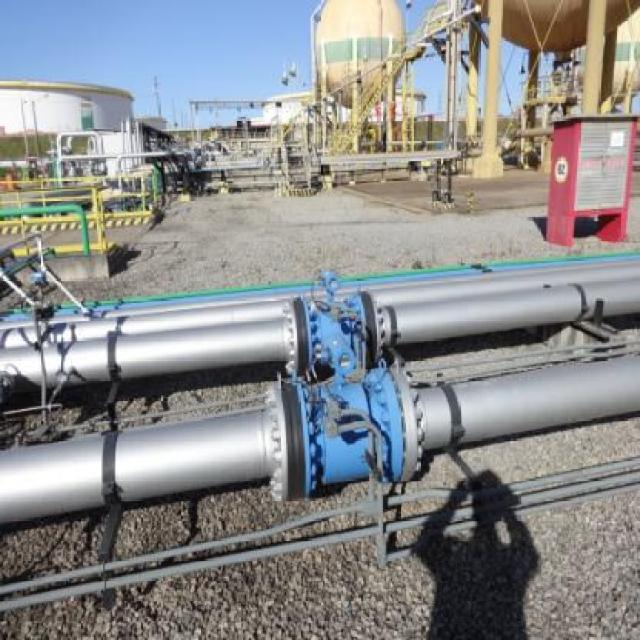gas: (5, 354, 639, 520), (5, 272, 640, 392)
